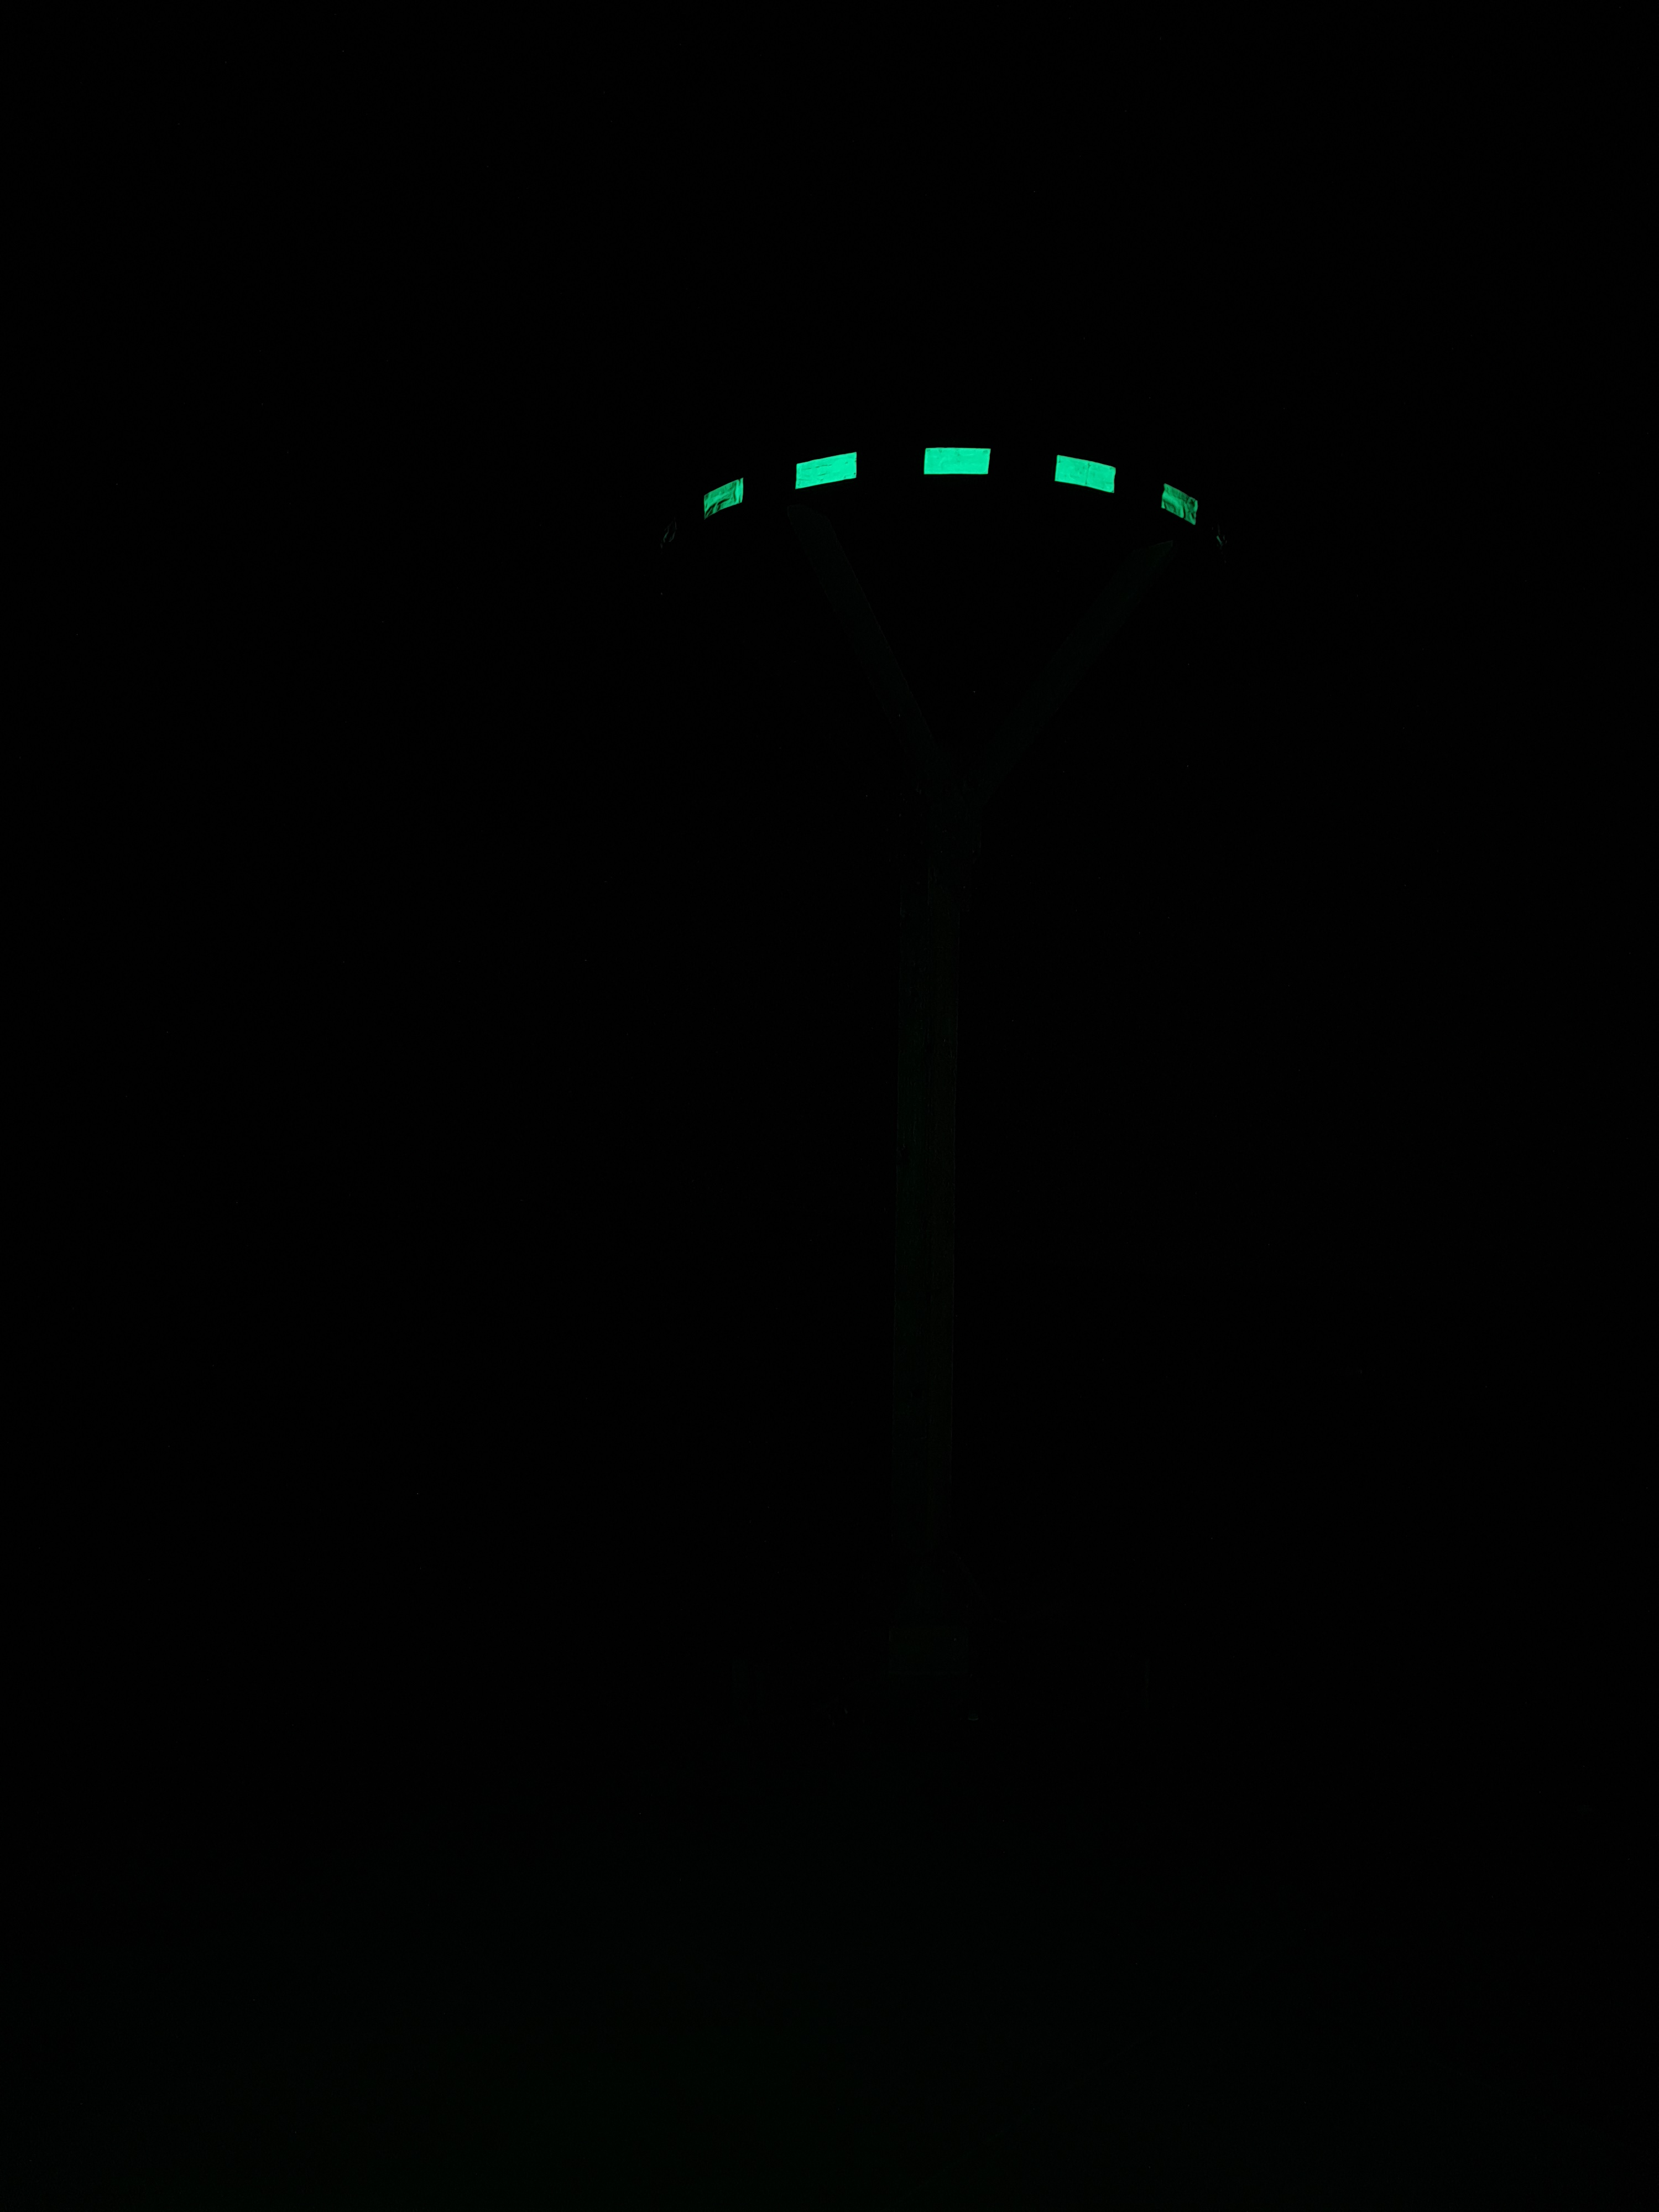hoop: (699, 439, 1197, 526)
